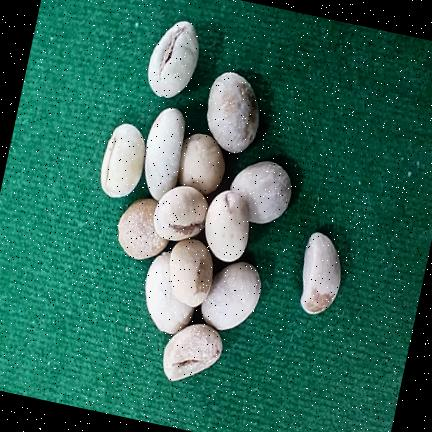immature: (207, 72, 259, 153), (145, 252, 194, 334), (202, 262, 261, 330), (148, 21, 199, 98), (231, 161, 291, 224), (145, 108, 185, 201), (163, 324, 222, 381), (300, 232, 341, 314), (101, 124, 145, 197), (205, 191, 249, 262), (118, 199, 168, 259), (154, 186, 208, 241), (170, 239, 213, 307), (178, 134, 225, 195)
